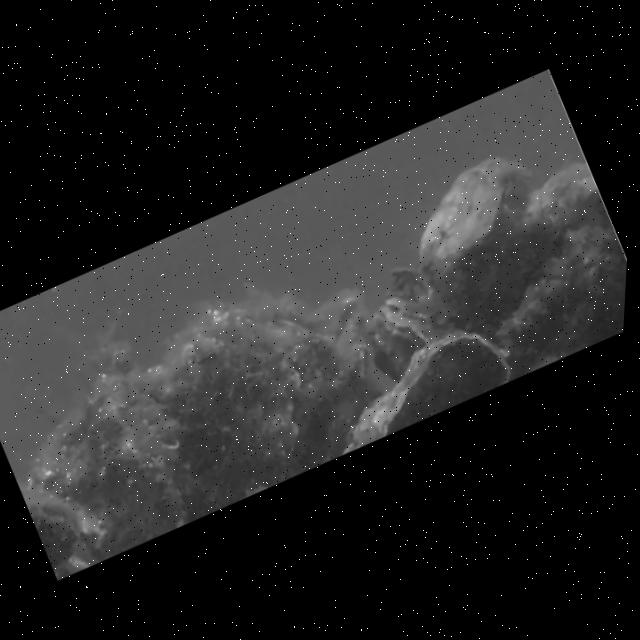Oyster-Closed: (383, 143, 566, 310), (354, 282, 456, 386)
Oyster-Indeterminate: (313, 313, 521, 461)
